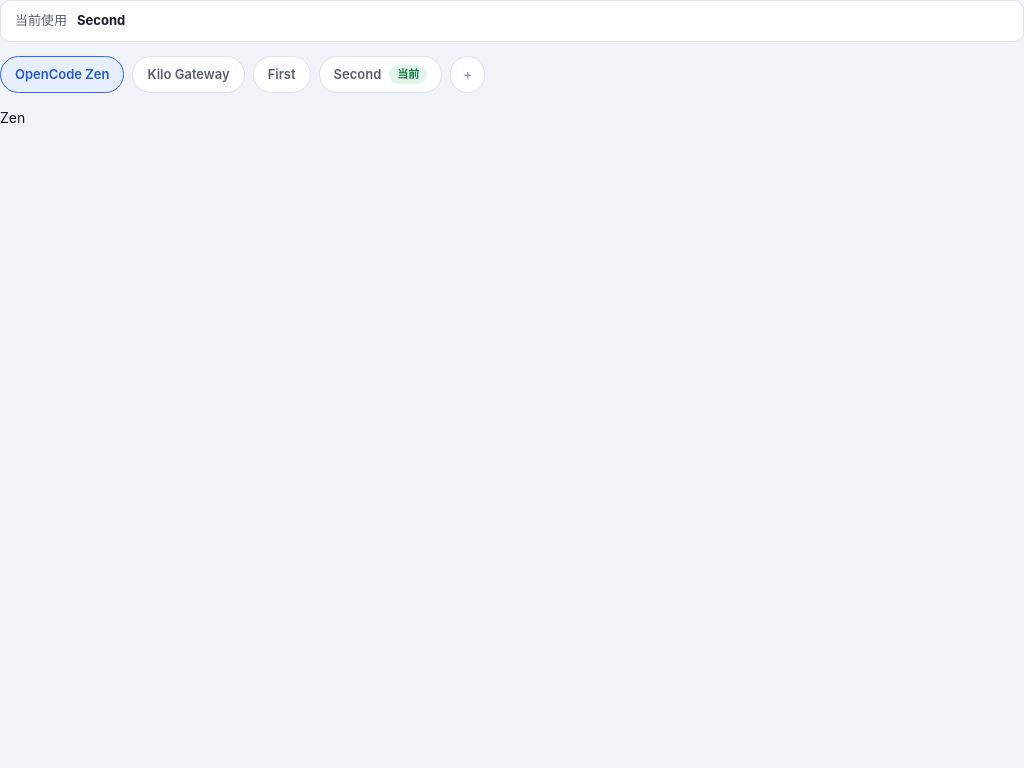
Test: provider connections › edits the chosen row and preserves other connections
The image size is (1024, 768).
Click the tab with test id "provider-tab-a". click: (282, 74)
box: x1=253 y1=56 x2=310 y2=93
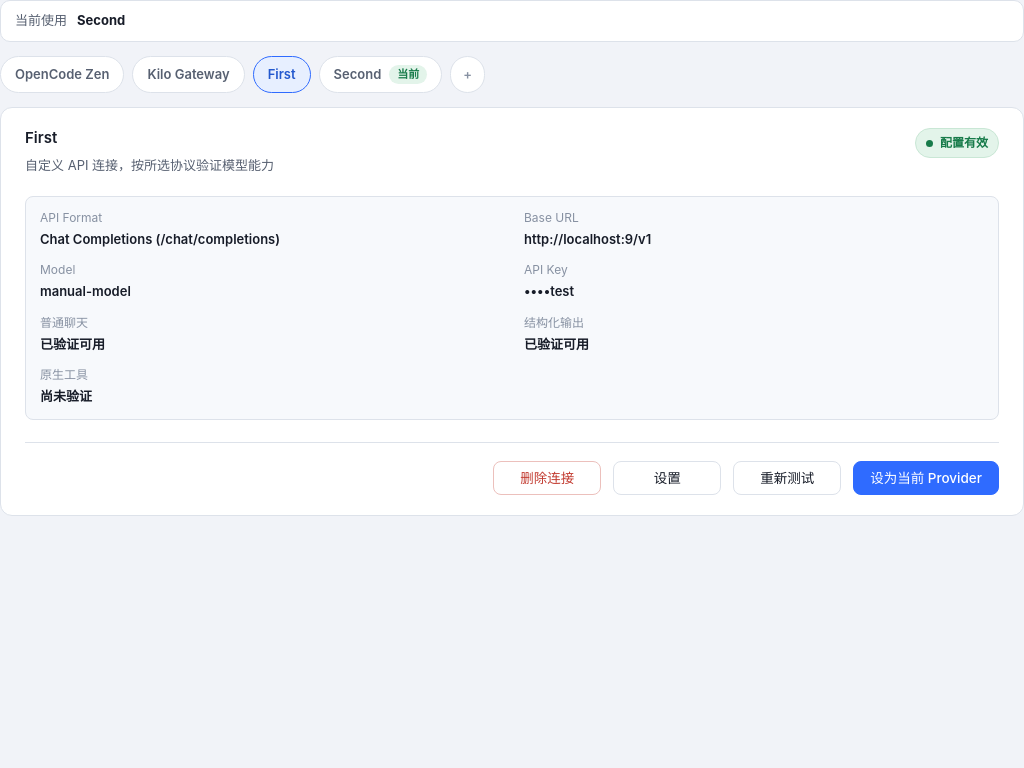
Click the button "设置". click: (667, 478)
box: x1=613 y1=461 x2=721 y2=495
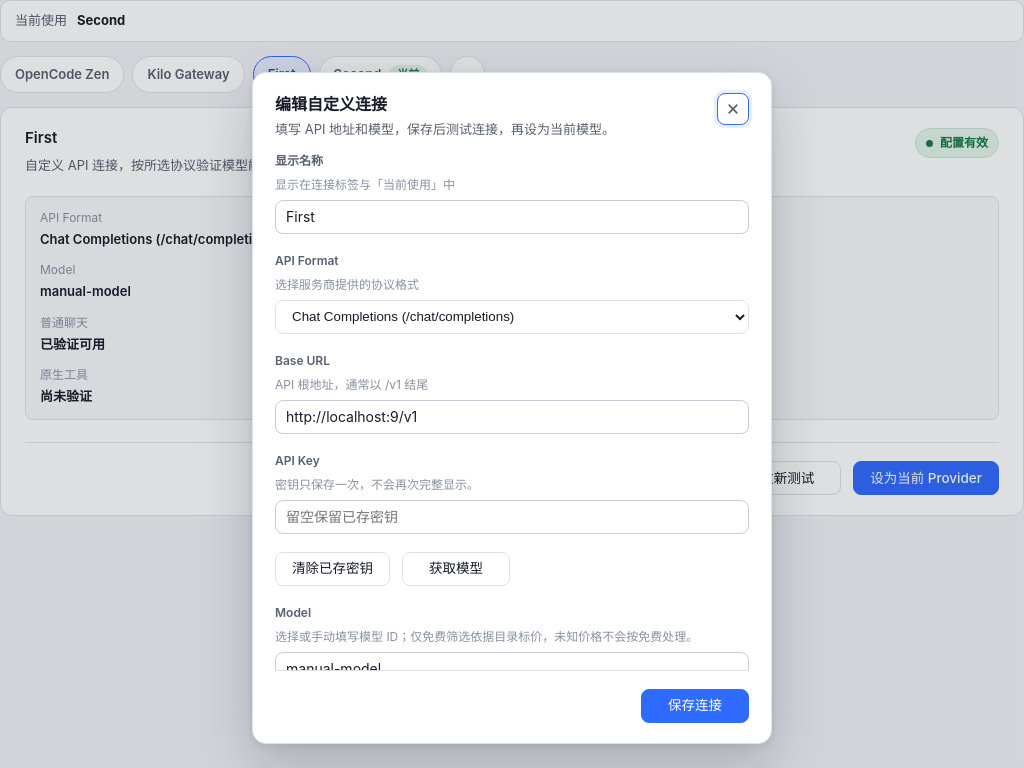
Result: the field with test id "connection-name" holds "First" at x1=275 y1=200 x2=749 y2=234
Result: the password field with test id "connection-key" is empty at x1=275 y1=500 x2=749 y2=534
